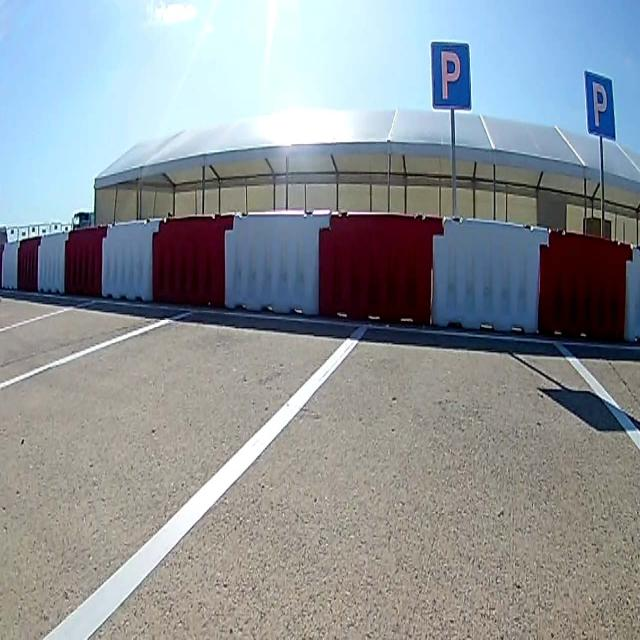park: (432, 42, 469, 107), (585, 73, 615, 139)
